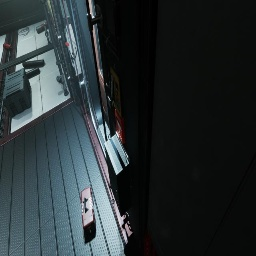EmergencyPhone ,: (107, 54, 124, 119)
FireAlarm ,: (115, 108, 125, 144)
FireExtinguisher ]: (3, 44, 13, 50)
FirstAidBox ,: (81, 187, 96, 235)
NitrogenTank ,: (36, 22, 51, 34)
SafetySwitchPanel ,: (62, 18, 82, 76)
